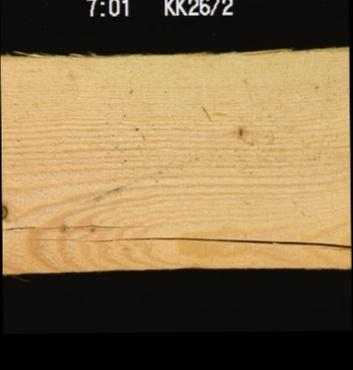dry_knot: (1, 202, 8, 220)
small_knot: (231, 122, 248, 139)
split: (25, 233, 350, 252), (1, 220, 144, 231)
